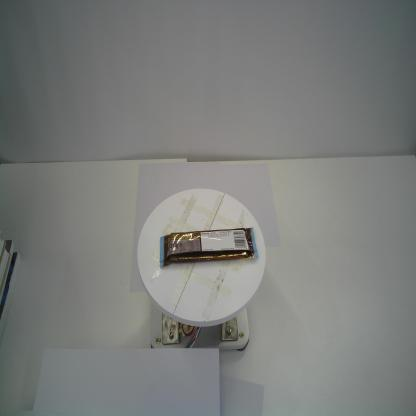Chocolate: (159, 227, 259, 267)
